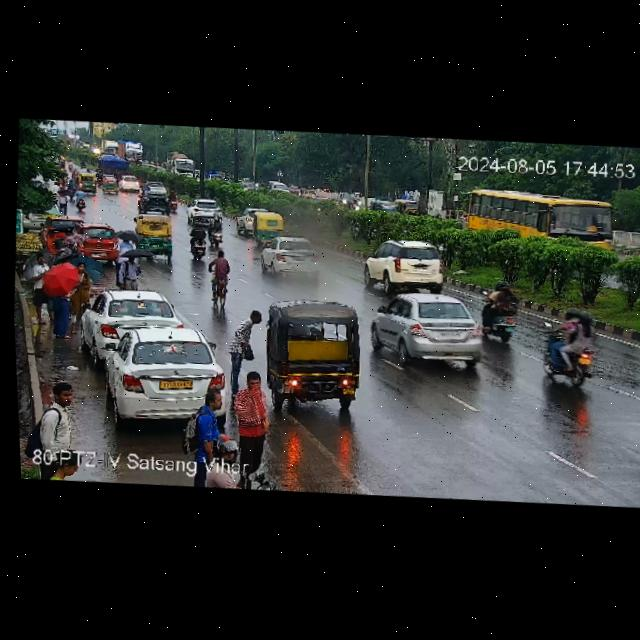bus: (454, 185, 615, 254)
car: (100, 322, 233, 425), (256, 295, 366, 411), (370, 289, 492, 378), (80, 284, 181, 354), (357, 235, 448, 295), (256, 233, 330, 279), (74, 224, 127, 262), (132, 215, 178, 258), (252, 211, 289, 243), (184, 194, 223, 222), (137, 191, 171, 215), (231, 205, 256, 232), (116, 174, 143, 193), (100, 174, 118, 194), (149, 179, 167, 192)
motorcycle: (535, 305, 601, 389), (207, 432, 287, 492), (475, 274, 532, 346), (206, 246, 232, 305), (37, 172, 76, 201), (186, 225, 212, 260), (97, 153, 130, 178), (203, 218, 231, 247), (72, 171, 101, 195), (72, 189, 91, 211), (164, 191, 181, 212), (49, 238, 68, 256), (141, 182, 149, 192)
person: (235, 368, 273, 459), (41, 376, 82, 450), (225, 301, 265, 374), (197, 383, 228, 461), (67, 260, 93, 330), (27, 252, 53, 322), (111, 250, 149, 293), (49, 278, 72, 340), (118, 236, 133, 260), (58, 189, 71, 214), (45, 229, 54, 253)
